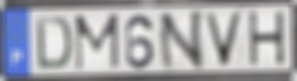6: (123, 12, 156, 71)
D: (34, 15, 74, 72)
H: (246, 9, 287, 68)
M: (73, 12, 121, 73)
N: (157, 8, 207, 72)
V: (202, 11, 246, 68)
